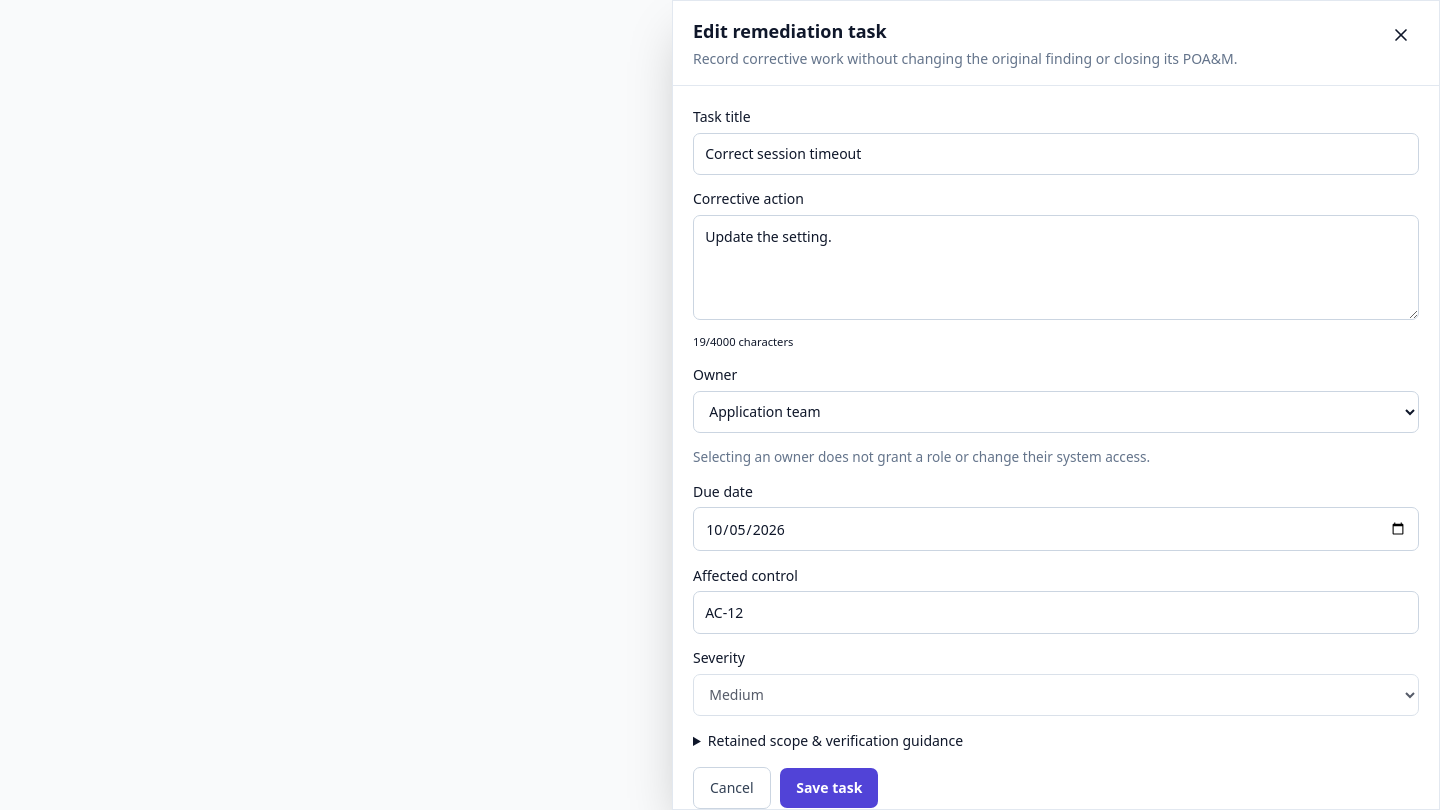
Scenario: Focused corrective task editor › preserves draft data and exposes stale-revision failures instead of closing
Replace the text in the field labelled "Task title" with "My unsaved correction" at (1056, 154), box [693, 133, 1419, 175]
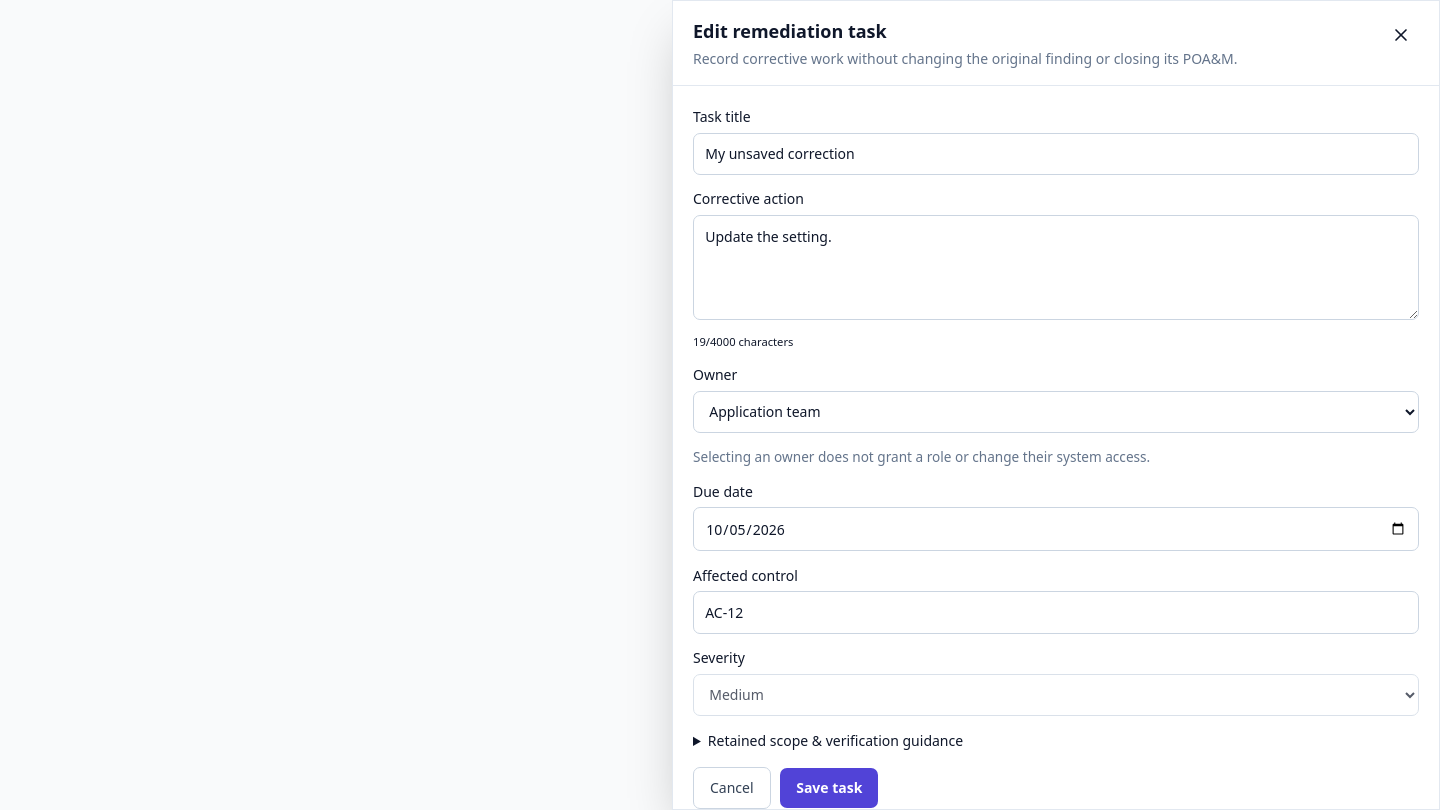
Click the button "Save task" at (829, 788), box [780, 768, 878, 808]
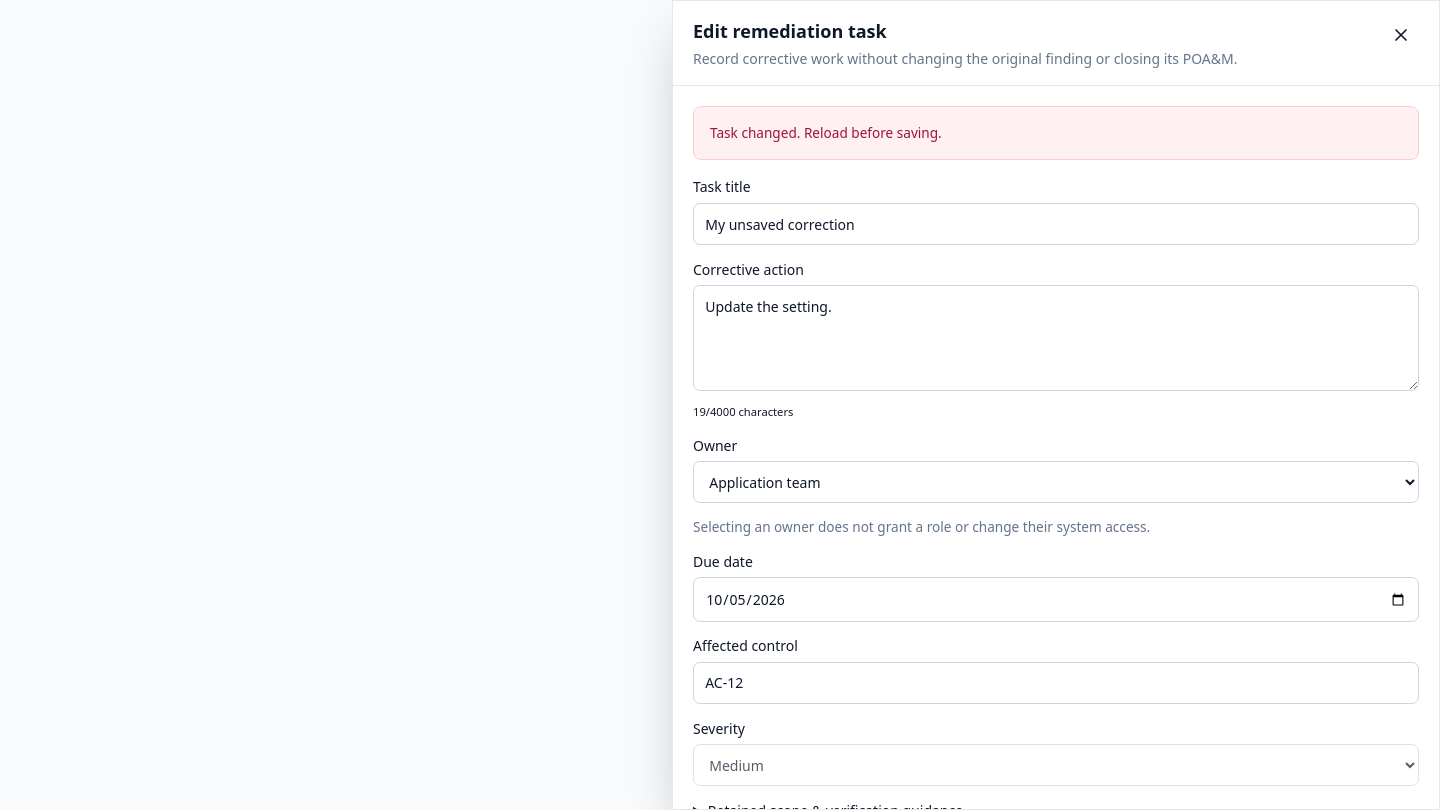
Expected: the message shows "Task changed", [710, 123, 942, 142]
